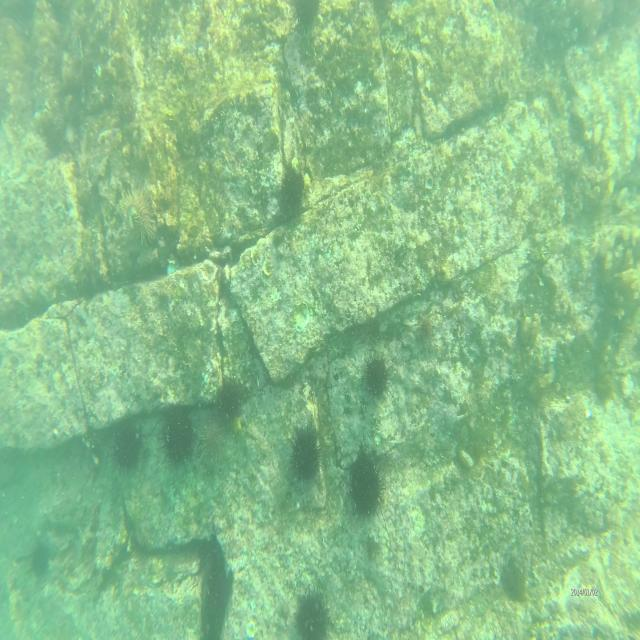echinus: (351, 449, 383, 510), (278, 168, 307, 225), (294, 581, 322, 636), (288, 431, 321, 476), (216, 380, 245, 426), (112, 428, 136, 478), (161, 413, 186, 458), (365, 360, 393, 396), (502, 564, 528, 598), (31, 544, 49, 579)
